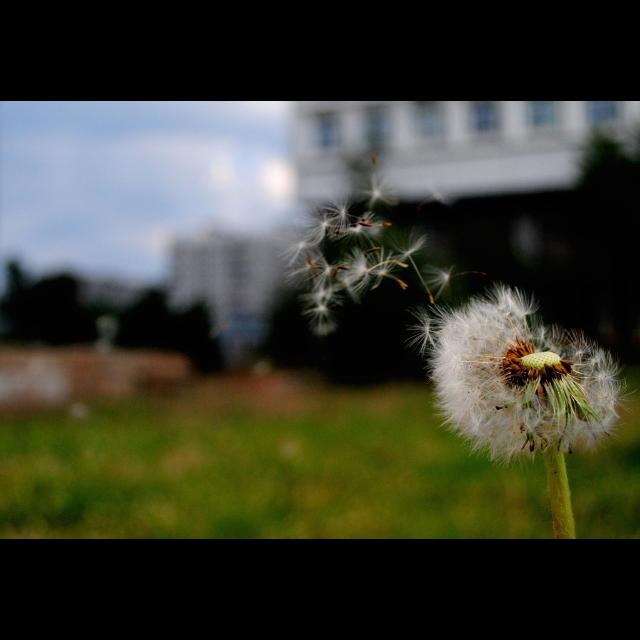Flower: (423, 282, 597, 456)
